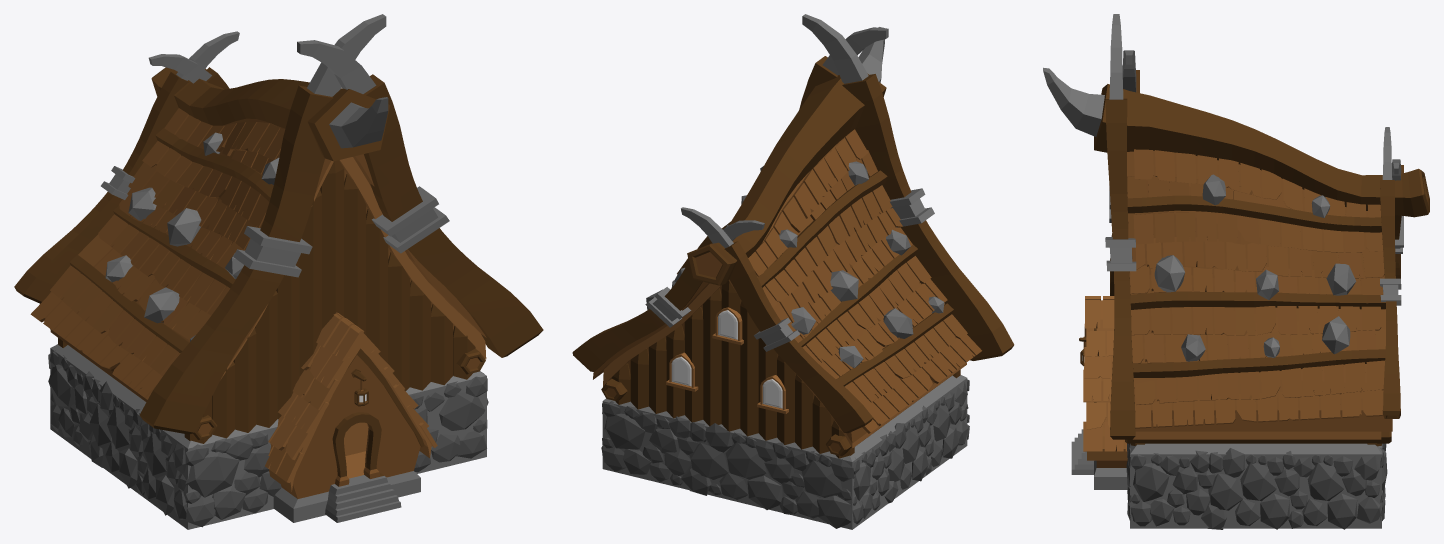
File: B_ChiefBase.fbx
3 renders of one model, left to right at view 1: azimuth 30°, elevation 25°; view 2: azimuth 150°, elevation 25°; view 3: azimuth 270°, elevation 25°, orthographic. The views are drawn at different scales.
Visible parts, largest first — view 1: B_ChiefBase; view 2: B_ChiefBase; view 3: B_ChiefBase.
Boxes of the visible parts, box(x1,y1,x2,y2) form: B_ChiefBase: box(14, 14, 543, 529); B_ChiefBase: box(572, 14, 1014, 529); B_ChiefBase: box(1043, 14, 1429, 529).
Size of the model in its own units: 922 by 1060 by 865.
